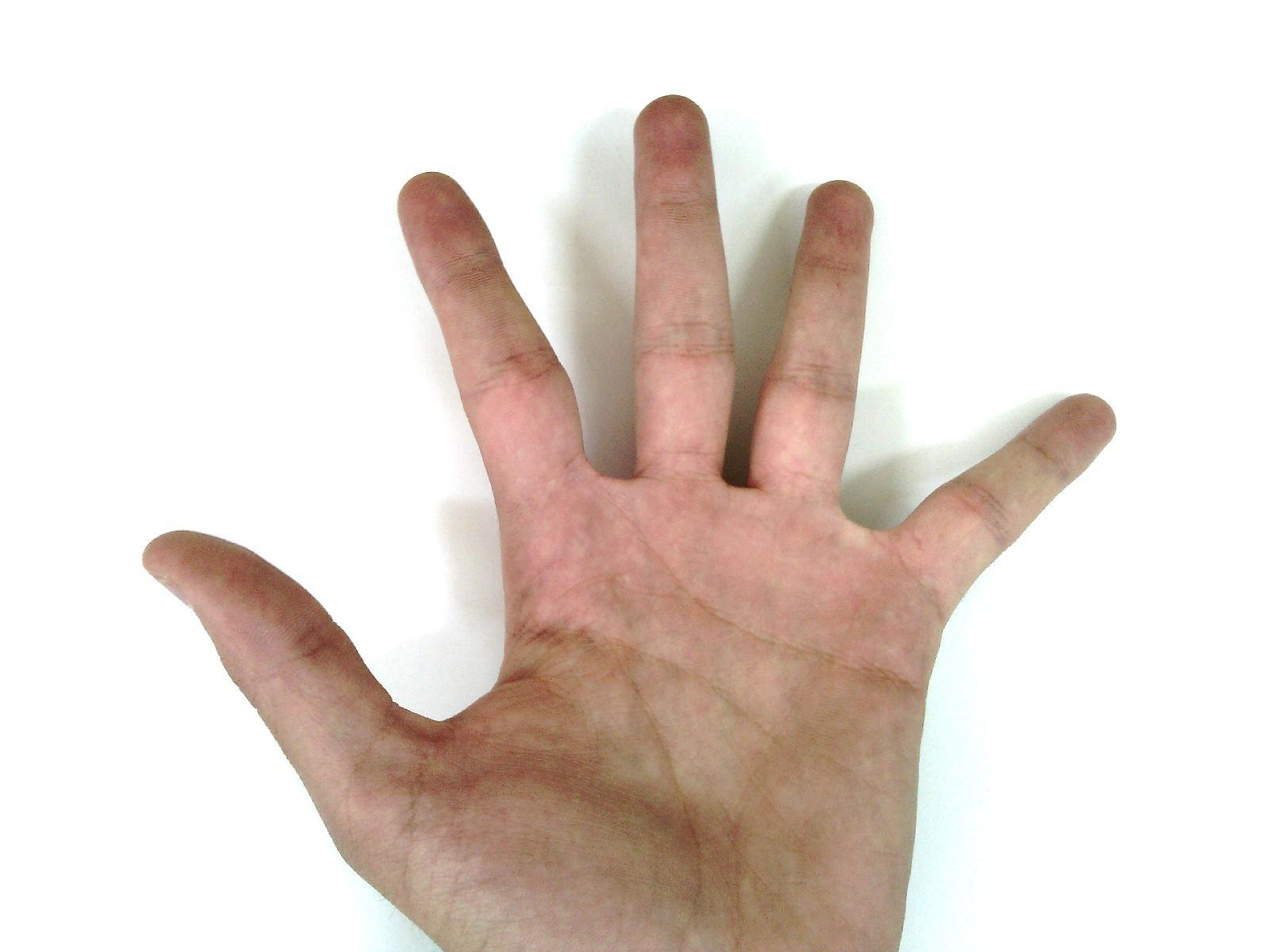open_palm: (141, 92, 1120, 951)
